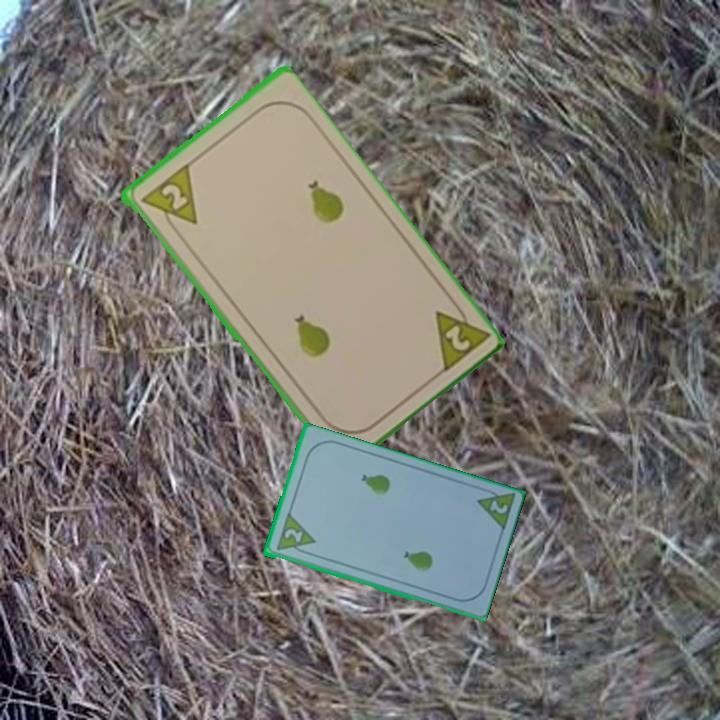2p: (430, 294, 491, 377), (136, 161, 200, 240), (272, 511, 318, 559), (473, 484, 516, 535)
